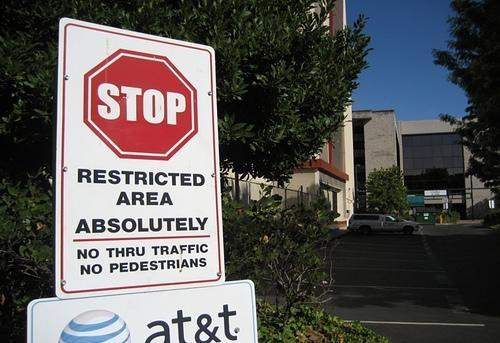truck: (343, 212, 423, 235)
